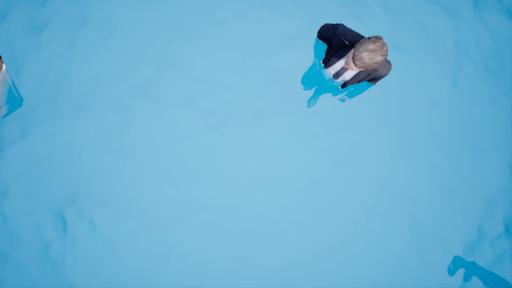person: (292, 21, 396, 115)
